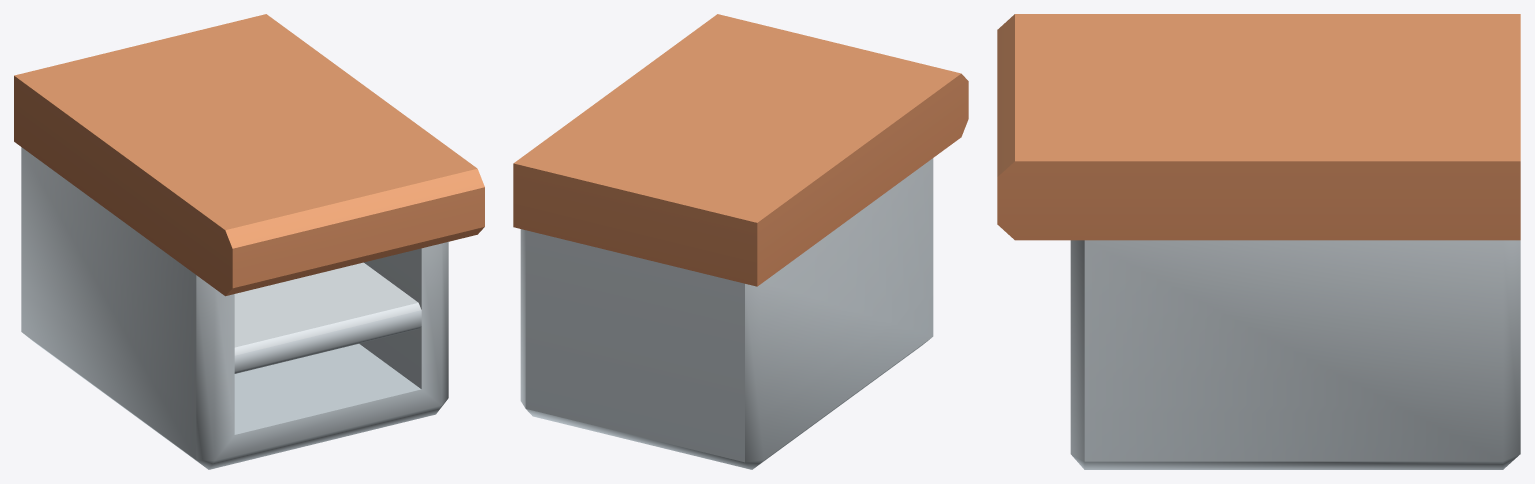
The model's file is countertop-straight-b-short.glb.
The picture shows the model from 3 angles, left to right: view 1: azimuth 30°, elevation 25°; view 2: azimuth 150°, elevation 25°; view 3: azimuth 270°, elevation 25°; orthographic projection. The views are drawn at different scales.
Visible parts, largest first — view 1: countertop_straight_B_short; view 2: countertop_straight_B_short; view 3: countertop_straight_B_short.
Boxes of the visible parts, x1,y1,x2,y2 form: countertop_straight_B_short: (14,14,484,469); countertop_straight_B_short: (513,14,968,469); countertop_straight_B_short: (997,14,1520,469).
Size of the model in its own units: 1 by 1 by 1.5.
1 material, 1 textured.
